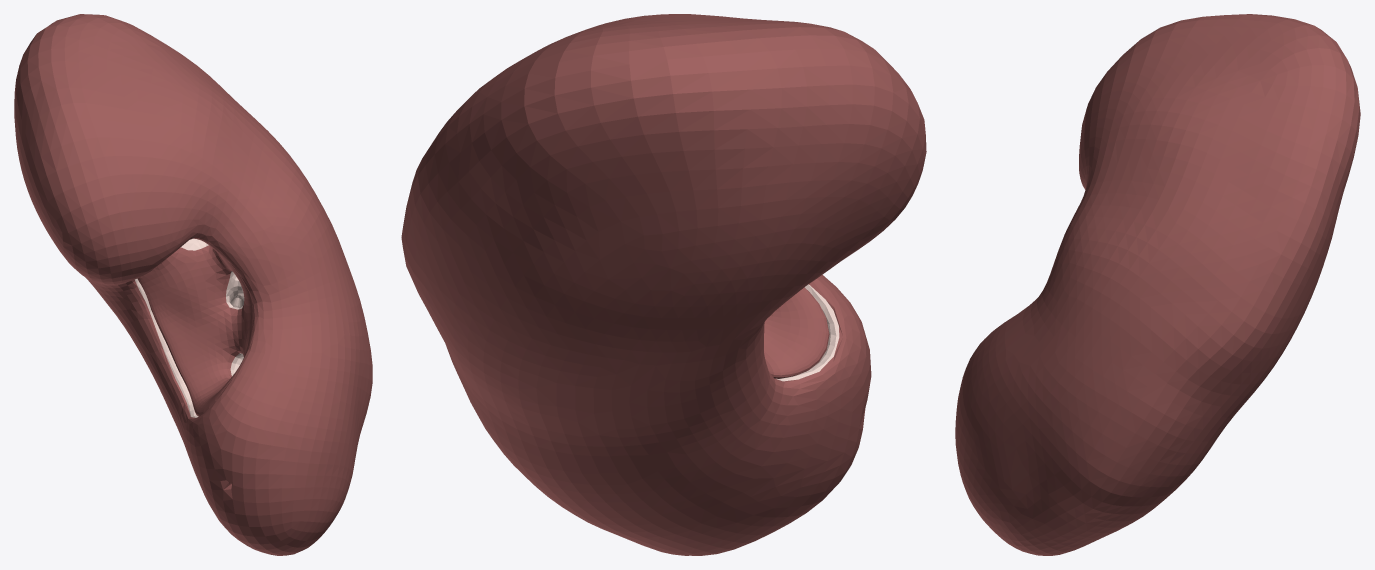
File: VH_M_Kidney_L_0.8.glb
3 views of the same model, side by side, from view 1: azimuth 30°, elevation 25°; view 2: azimuth 150°, elevation 25°; view 3: azimuth 270°, elevation 25° (orthographic). The views are drawn at different scales.
Parts seen in each view (by area): view 1: VH_M_kidney_capsule_L, VH_M_hilum_of_kidney_L, VH_M_renal_column_L, VH_M_outer_cortex_of_kidney_L; view 2: VH_M_kidney_capsule_L, VH_M_hilum_of_kidney_L, VH_M_outer_cortex_of_kidney_L; view 3: VH_M_kidney_capsule_L.
Boxes of the visible parts, x1,y1,x2,y2 form: VH_M_kidney_capsule_L: (14, 14, 372, 555); VH_M_hilum_of_kidney_L: (137, 238, 253, 416); VH_M_renal_column_L: (181, 238, 244, 376); VH_M_outer_cortex_of_kidney_L: (135, 278, 198, 417); VH_M_kidney_capsule_L: (401, 14, 926, 555); VH_M_hilum_of_kidney_L: (764, 287, 829, 378); VH_M_outer_cortex_of_kidney_L: (776, 284, 839, 381); VH_M_kidney_capsule_L: (955, 14, 1360, 555).
Bounding box in the file's own units: 0.0757 × 0.1065 × 0.0824.
